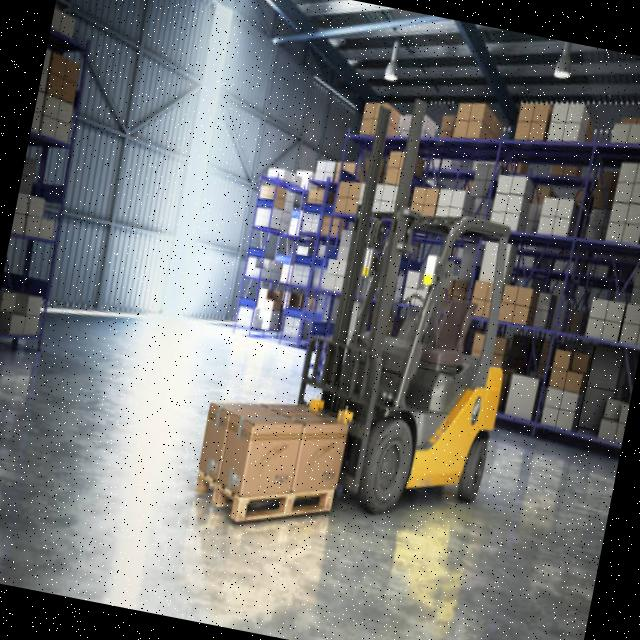Wooden-Pallets: (191, 472, 335, 531)
